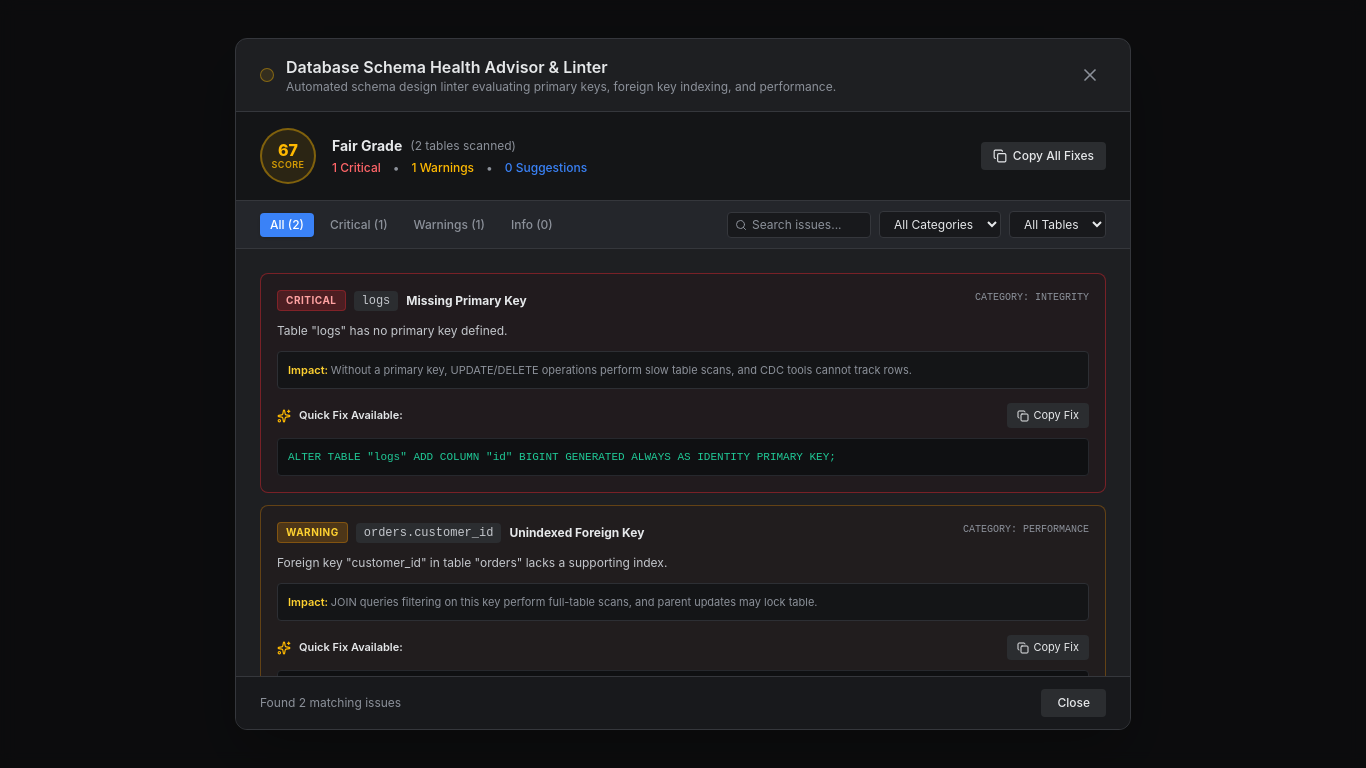
Test: SchemaHealthModal component › copies bundled auto-remediation migration script
Click the button with test id "health-copy-bundle-btn".
click(1043, 156)  # box [981,142,1106,170]
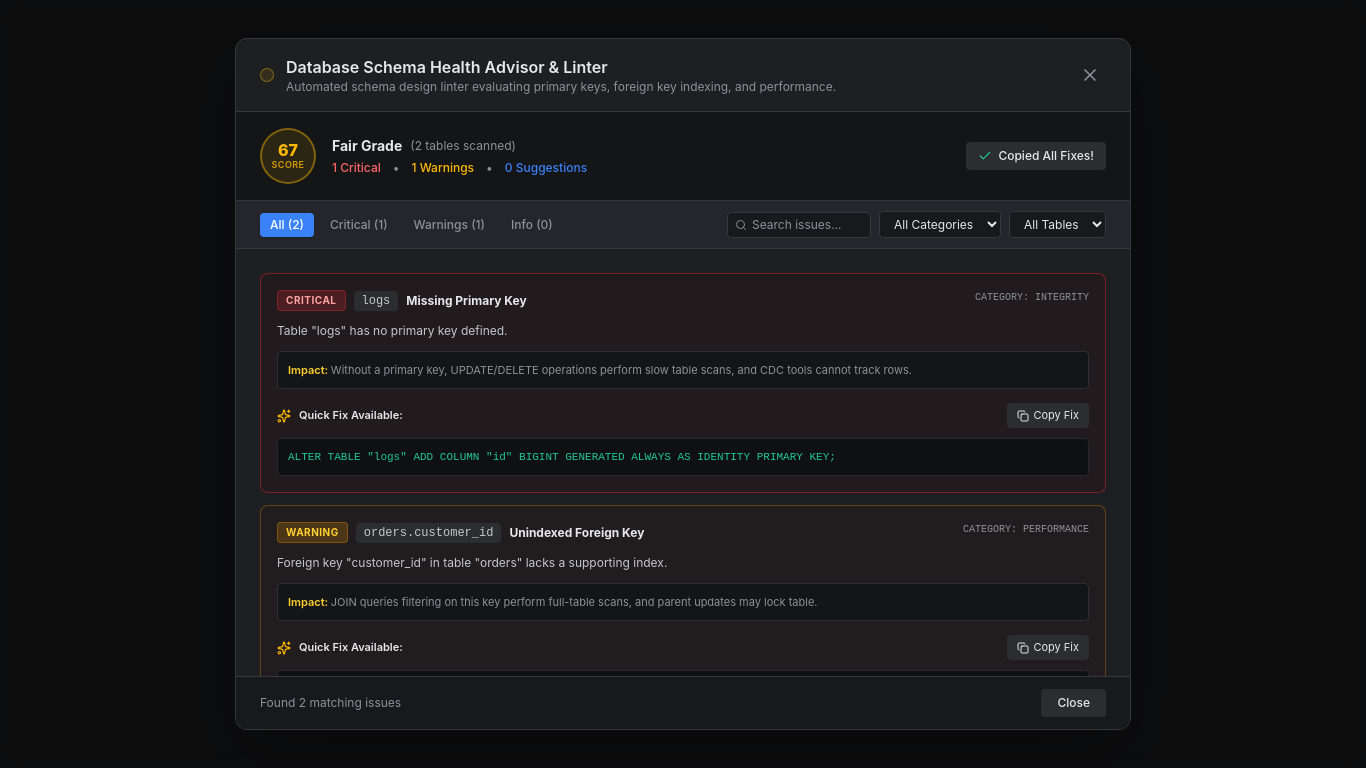
Expected: the text "Copied All Fixes!" is shown, [998,148,1094,164]
